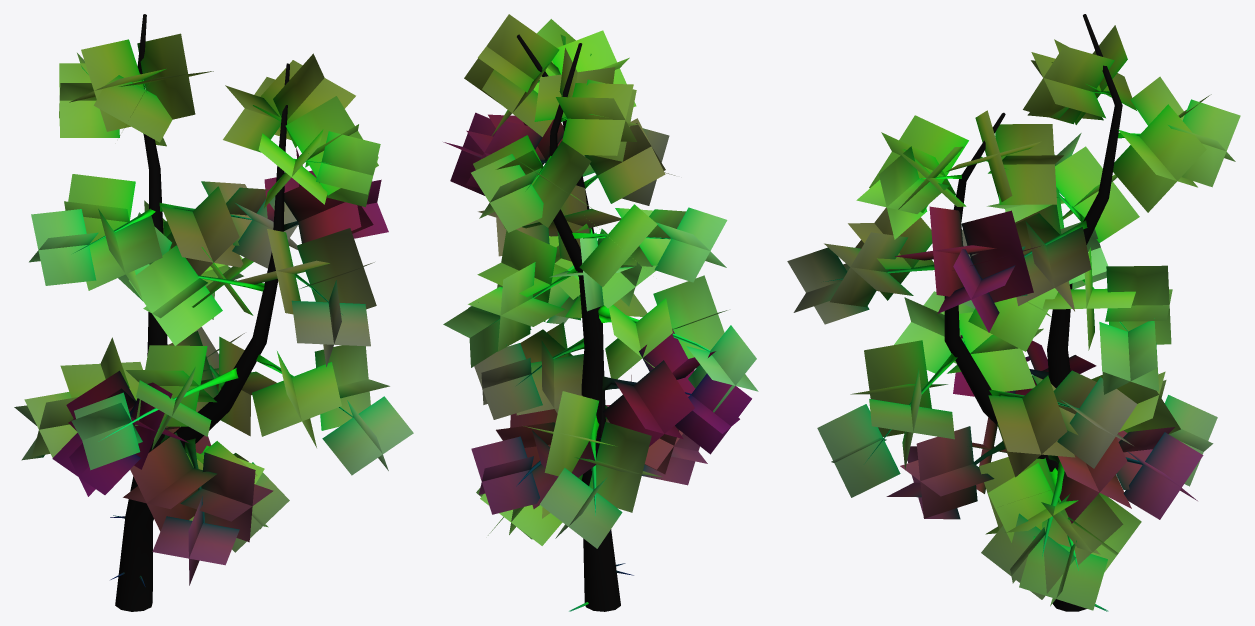
The model's file is URP_P7_Tree_13_LOD_2.fbx.
The picture shows the model from 3 angles, left to right: view 1: azimuth 30°, elevation 25°; view 2: azimuth 150°, elevation 25°; view 3: azimuth 270°, elevation 25°; orthographic projection. The views are drawn at different scales.
Visible parts, largest first — view 1: Tree_13_LOD_2; view 2: Tree_13_LOD_2; view 3: Tree_13_LOD_2.
Boxes of the visible parts, x1,y1,x2,y2 form: Tree_13_LOD_2: (14,14,413,611); Tree_13_LOD_2: (443,14,758,611); Tree_13_LOD_2: (787,14,1240,611).
Size of the model in its own units: 279 by 499 by 343.
